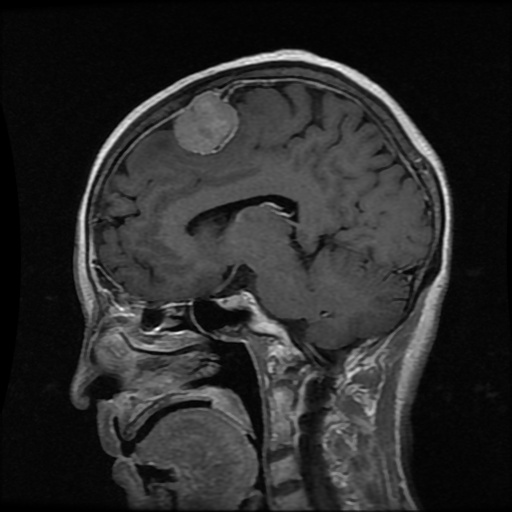meningioma: (173, 90, 239, 153)
